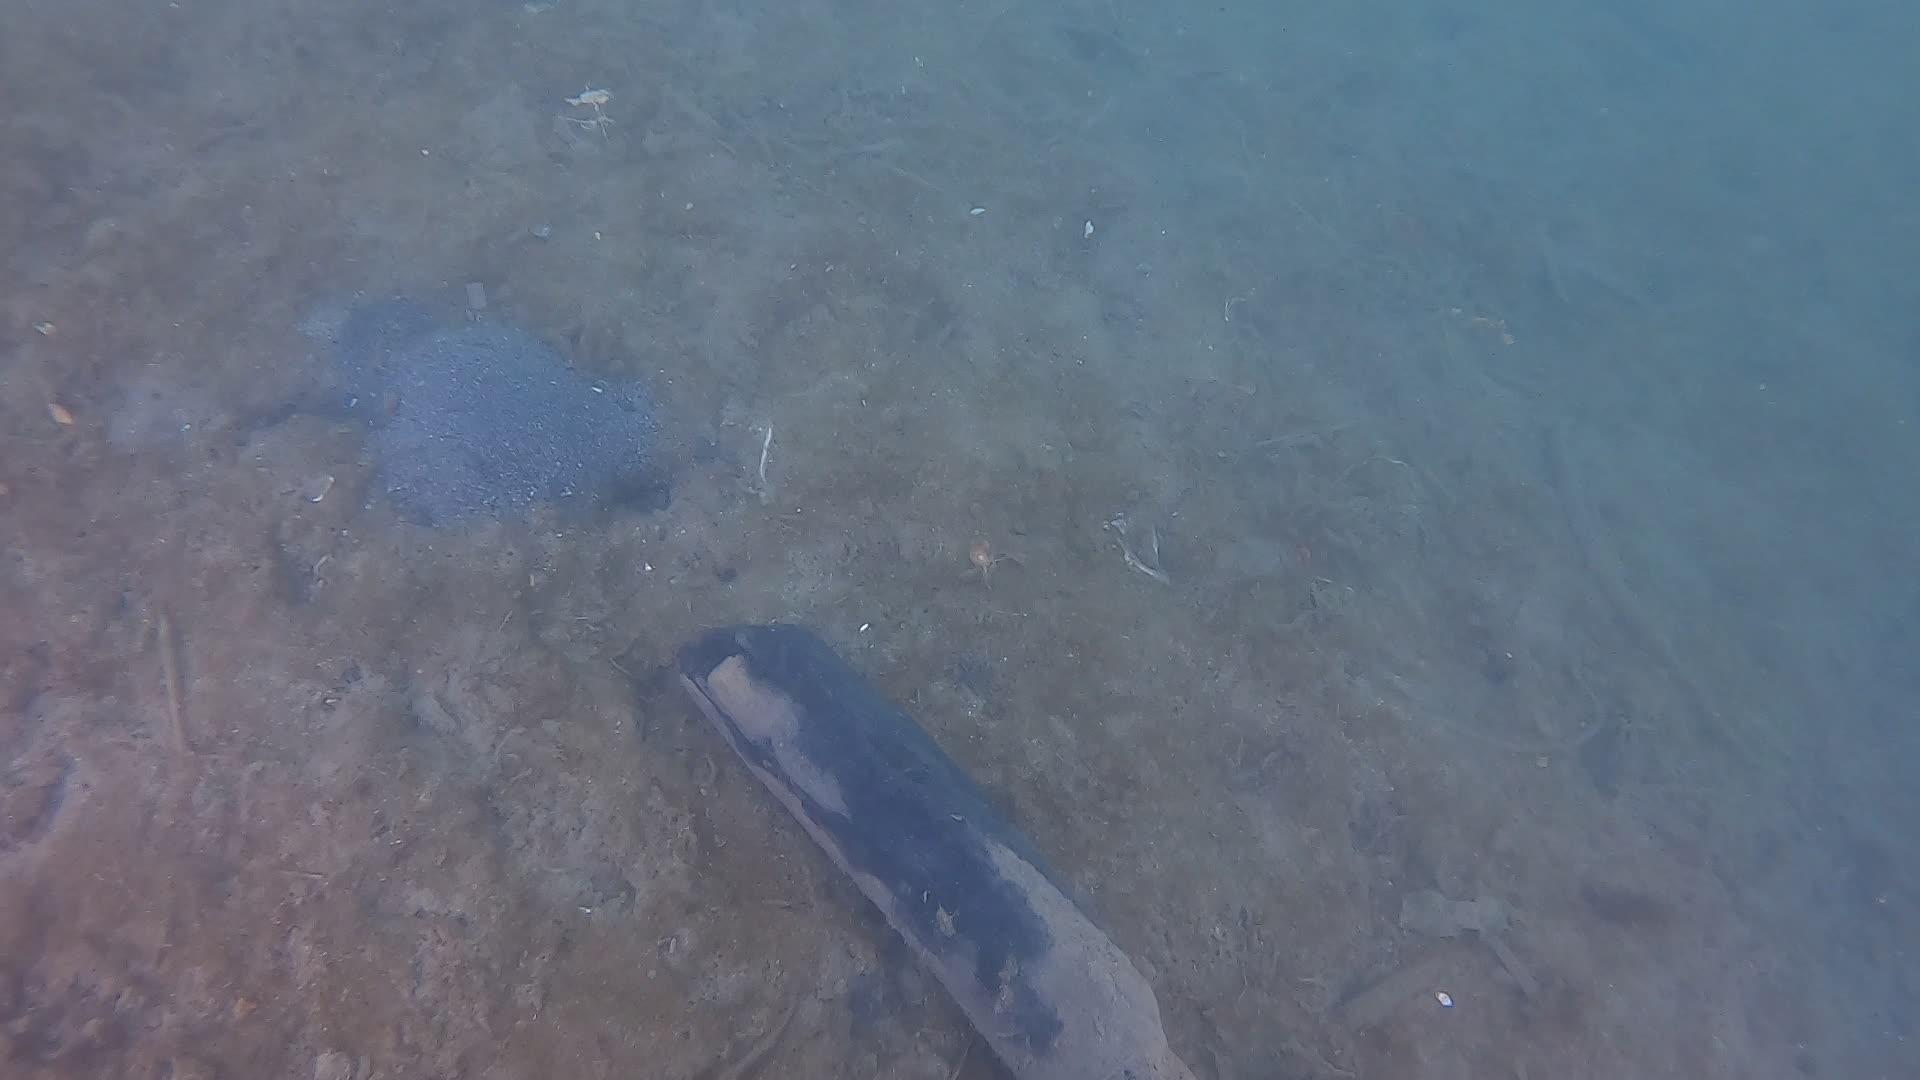wood: (670, 615, 1187, 1080)
